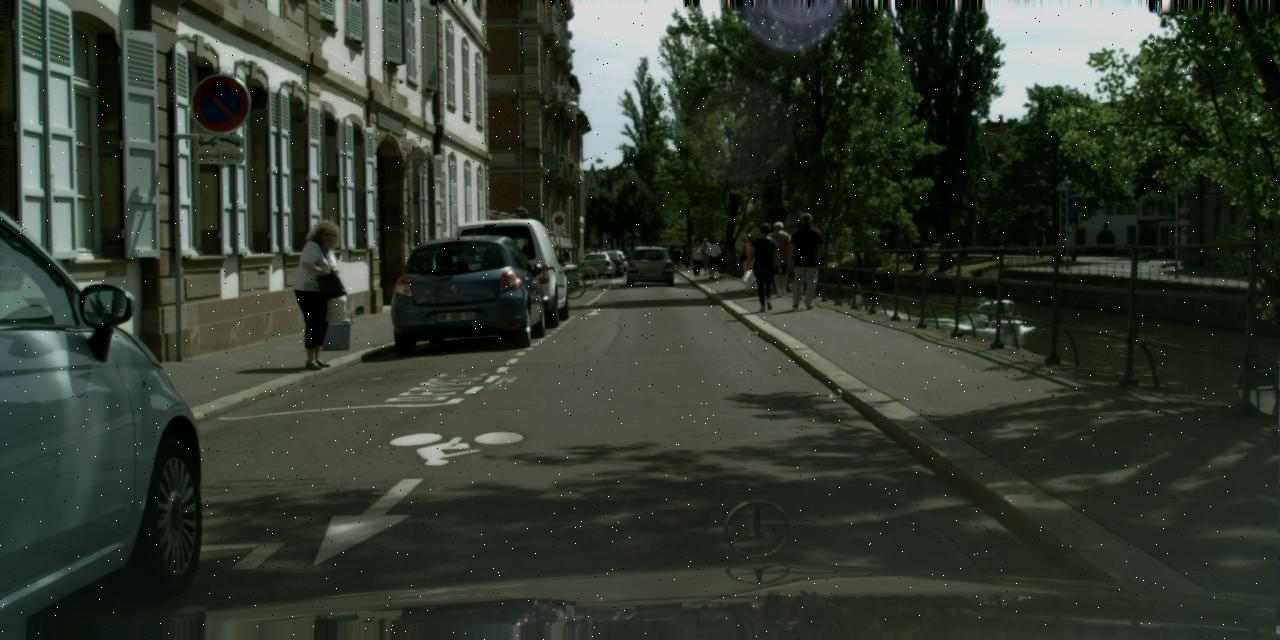ped: (293, 219, 354, 369), (784, 213, 824, 308), (748, 222, 783, 310), (765, 221, 796, 297), (737, 231, 762, 294), (704, 239, 719, 278), (672, 243, 694, 269), (698, 237, 713, 275), (714, 240, 728, 278), (690, 241, 704, 276)
